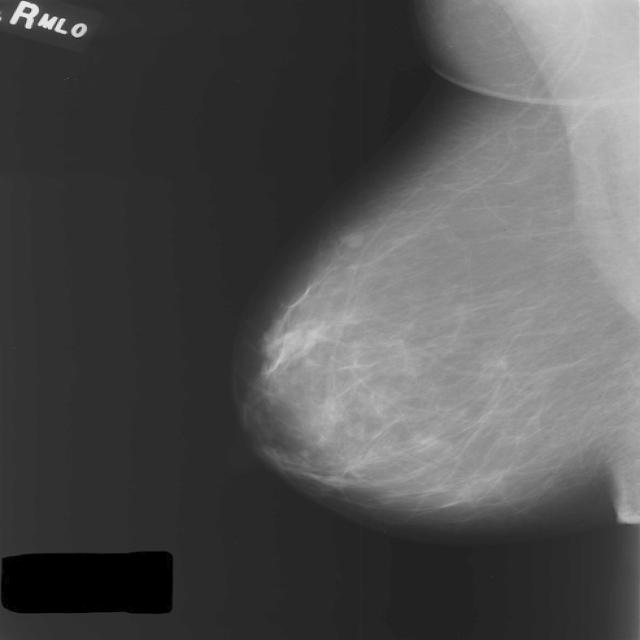tumour: (335, 232, 363, 248)
